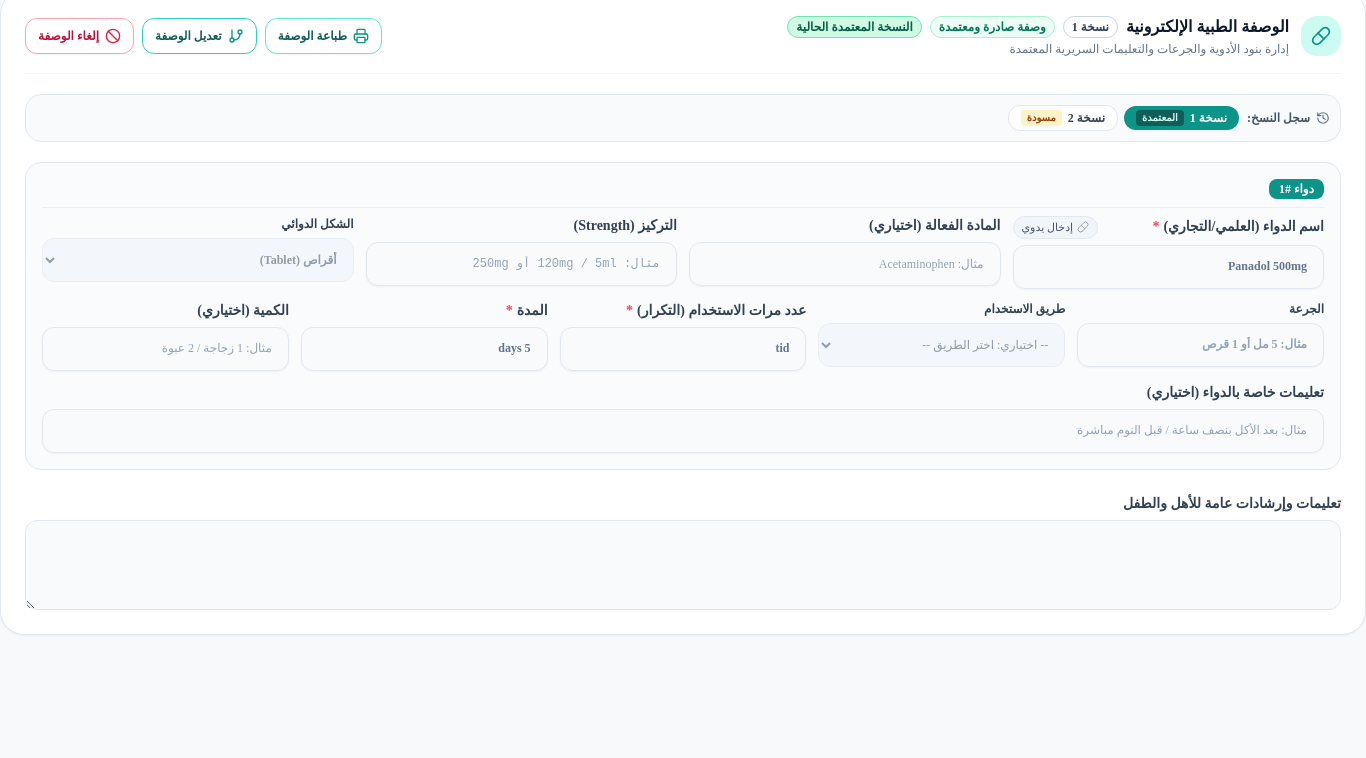
Test: Prescription Revision & Amendment Workflow (نظام مراجعة وتعديل الوصفات الصادرة) › 6. Production Regression Suite: Revision Selection Stability, URL Sync, and Security › 6. v1 issued fields are read-only / locked and v2 draft fields are editable
The image size is (1366, 758).
Expected: the text with test id "rx-revision-badge" reads "نسخة 1", 1072,20 -> 1109,34
Expected: the text "إضافة دواء آخر للوصفة" is not shown
Switch to v2 draft
Click the button with test id "rx-revision-tab-2".
click(1063, 118)  # box 1008,105 -> 1118,131
(page scrolled)
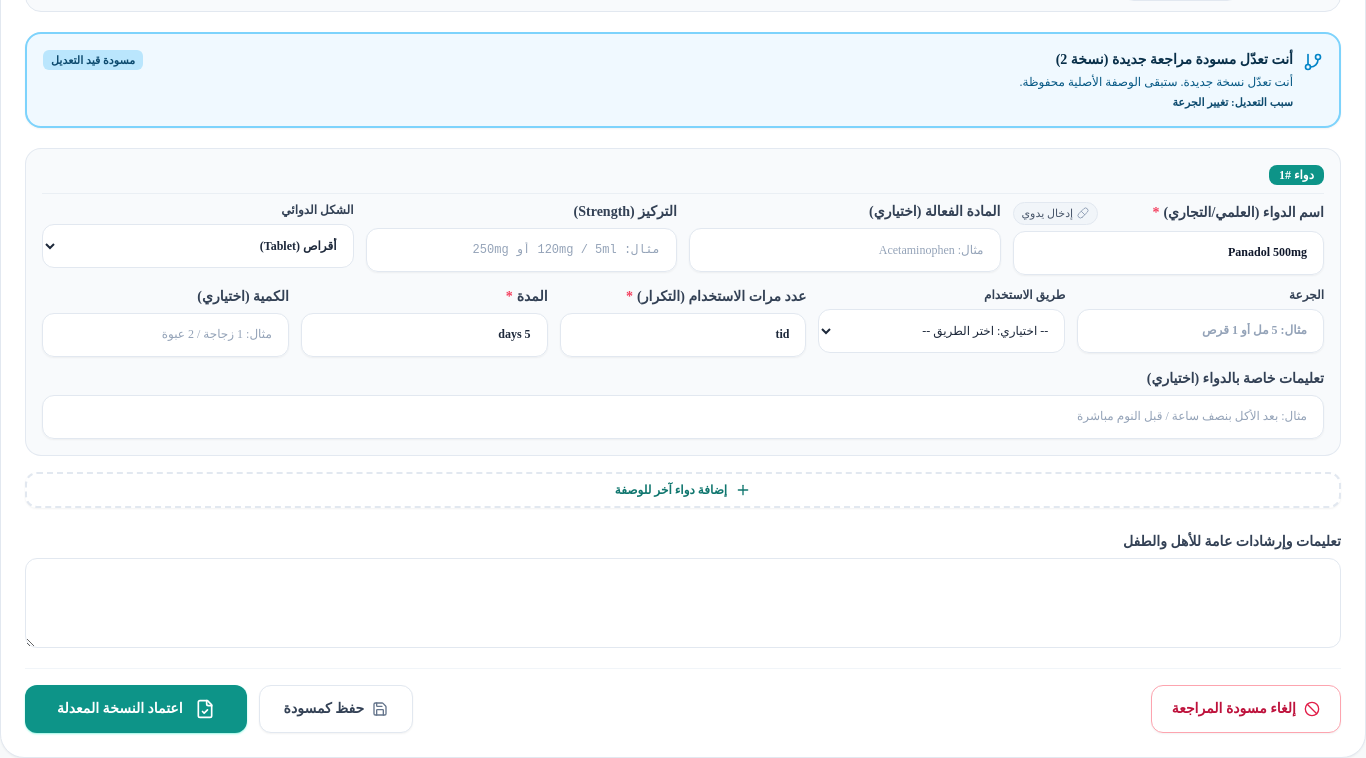
Expected: the text "إضافة دواء آخر للوصفة" is shown, 615,482 -> 727,498
Expected: the button with test id "save-draft-prescription-btn" is shown, 259,684 -> 413,732
Expected: the button with test id "issue-prescription-btn" is shown, 25,684 -> 247,732
